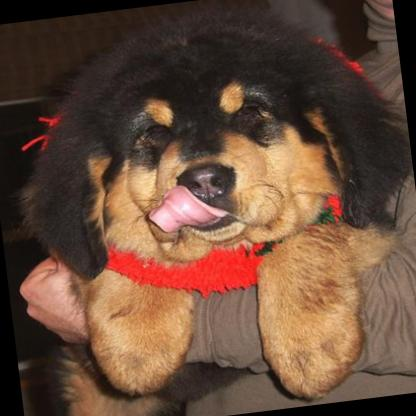Tibetan_mastiff: (6, 0, 416, 416)
